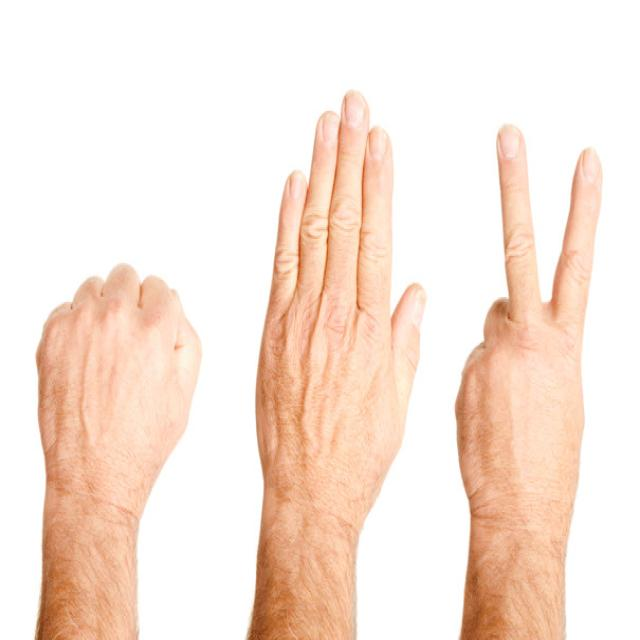paper: (247, 61, 432, 538)
rock: (23, 234, 211, 526)
scirssors: (445, 100, 621, 566)
